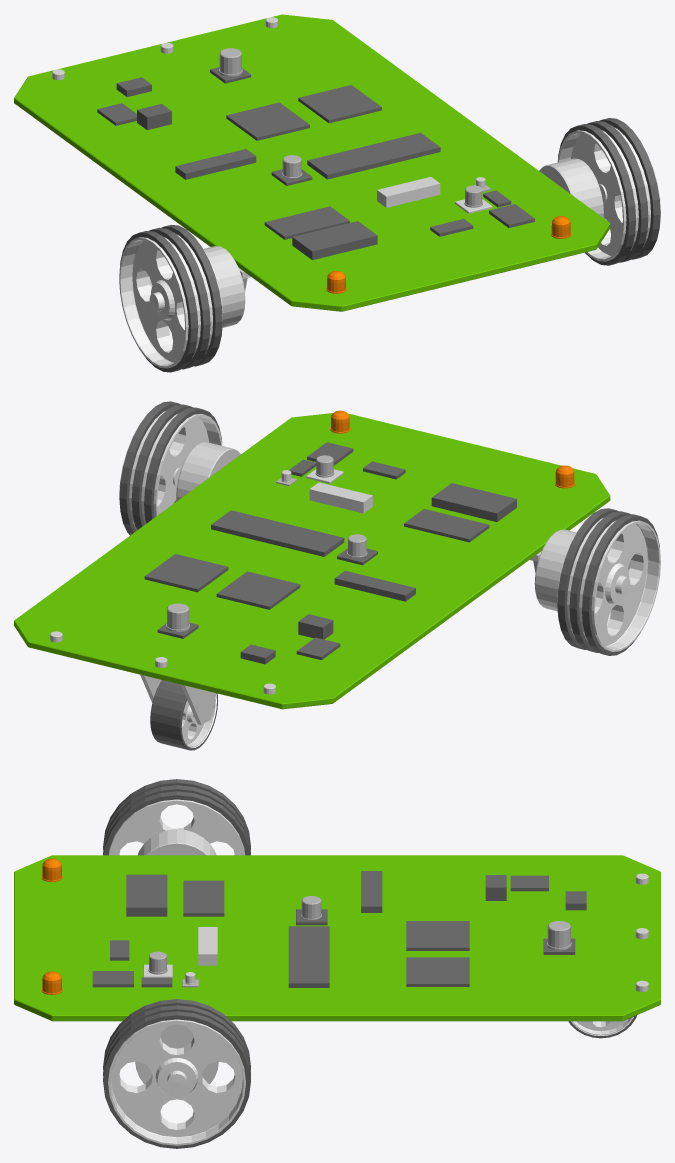
File: ddpmouse.glb
The picture shows the model from 3 angles, top to bottom: view 1: azimuth 30°, elevation 25°; view 2: azimuth 150°, elevation 25°; view 3: azimuth 270°, elevation 25°; orthographic projection. The views are drawn at different scales.
Visible parts, largest first — view 1: Box02; view 2: Box02; view 3: Box02.
Boxes of the visible parts, left/top/right/bottom form: Box02: left=14, top=14, right=660, bottom=372; Box02: left=14, top=401, right=660, bottom=750; Box02: left=14, top=779, right=660, bottom=1148.
Bounding box in the file's own units: 0.4138 × 0.1084 × 0.4743.
